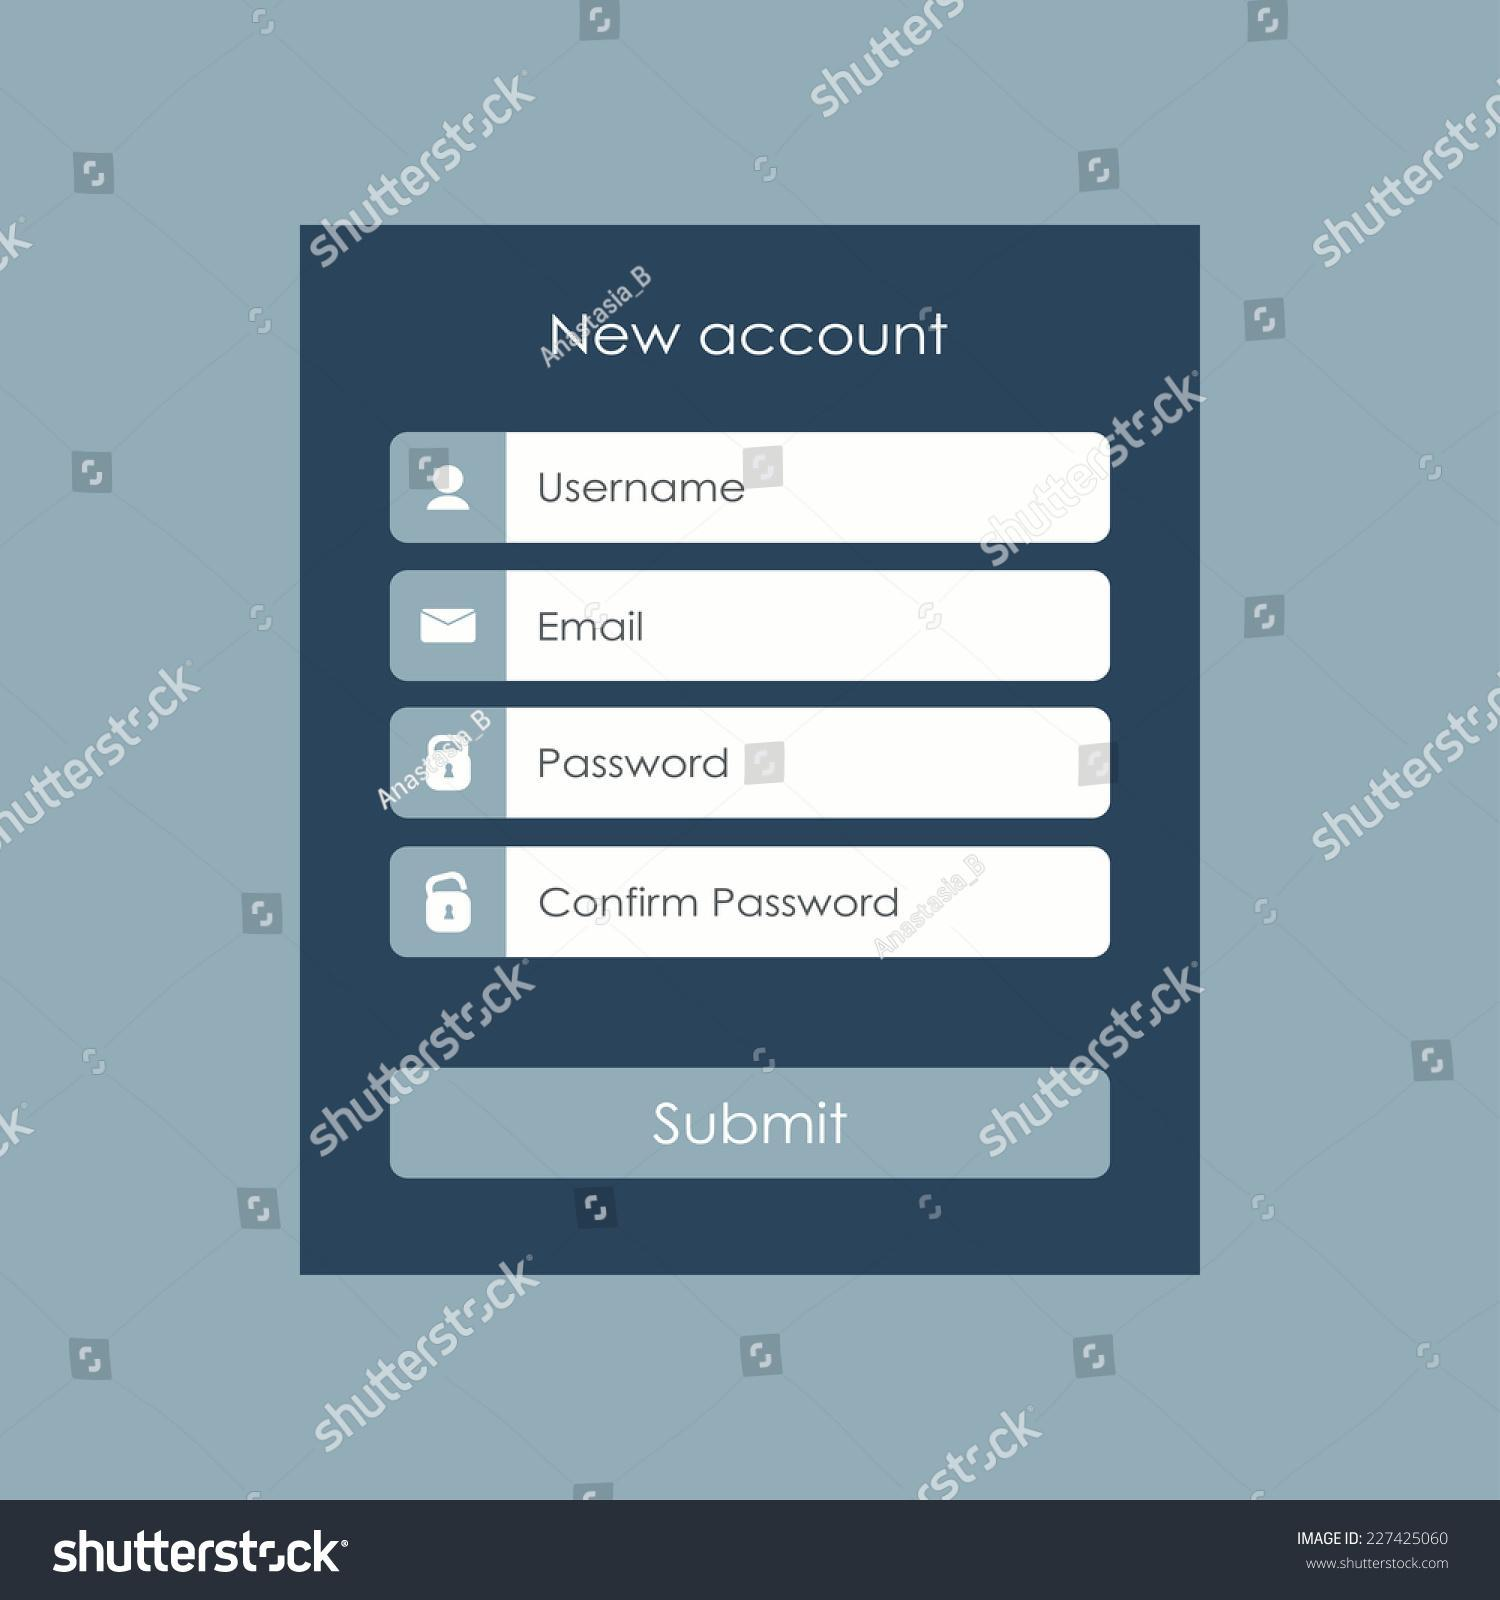button: (393, 1073, 1112, 1179)
icon: (414, 867, 486, 944), (419, 460, 486, 527), (417, 593, 489, 656), (423, 727, 478, 796)
input: (508, 849, 1111, 960), (509, 708, 1111, 819), (510, 572, 1109, 682), (510, 436, 1111, 544)
